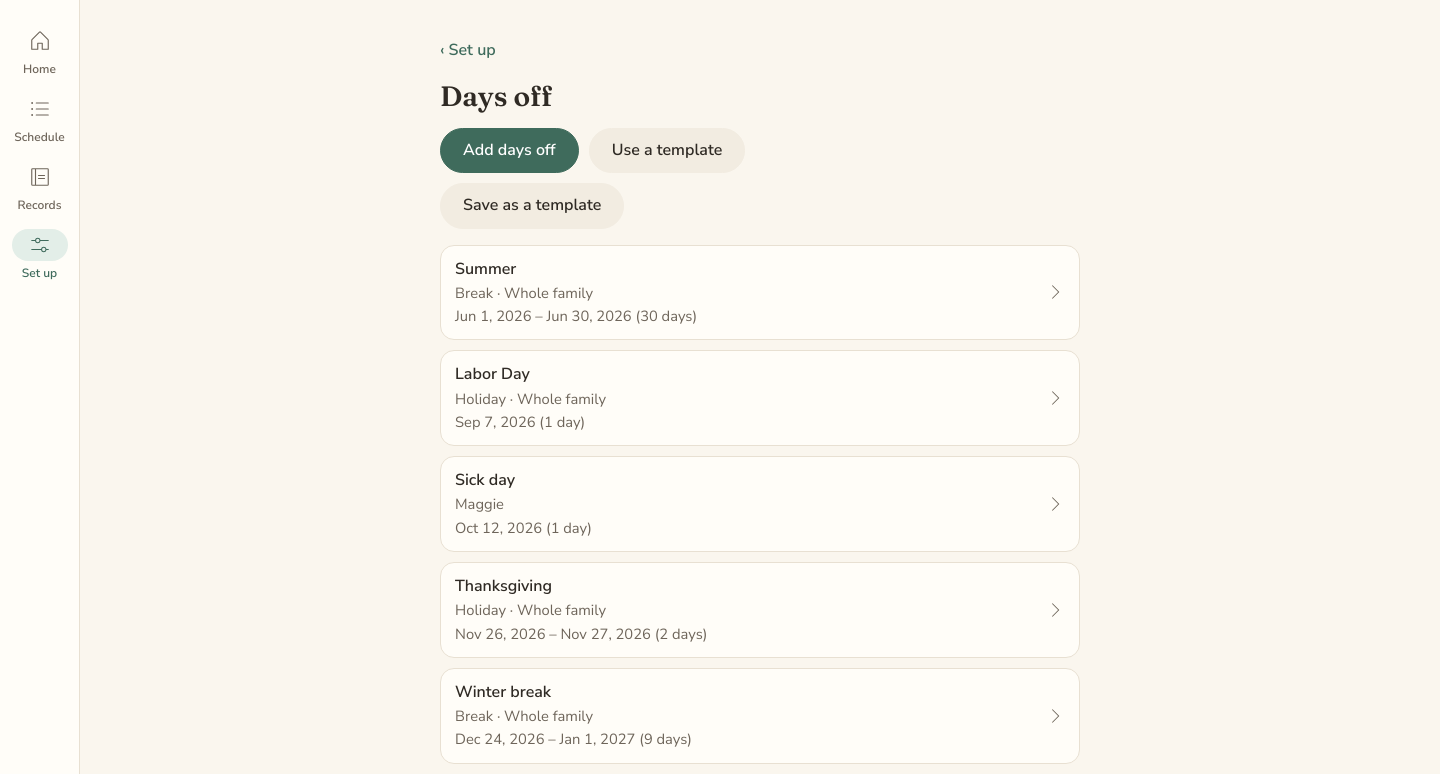
Test: Save as a template (S5-07) › a server error shows and the panel stays open
Check: the heading "Days off" is shown, box [440, 80, 552, 112]
Click the button "Save as a template" at (532, 206), box [440, 183, 624, 229]
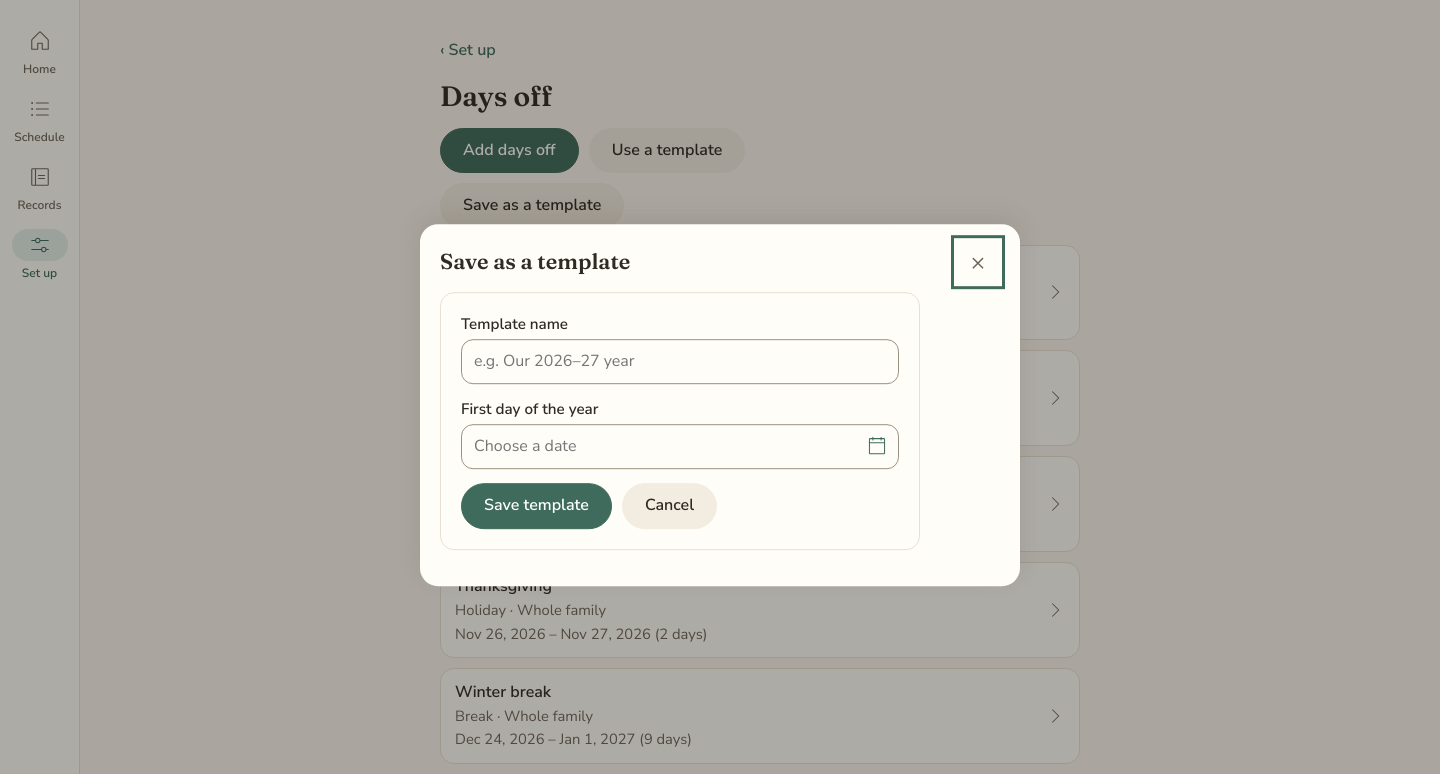
Type "Our year" into the field labelled "Template name" at (680, 362), box [461, 339, 899, 384]
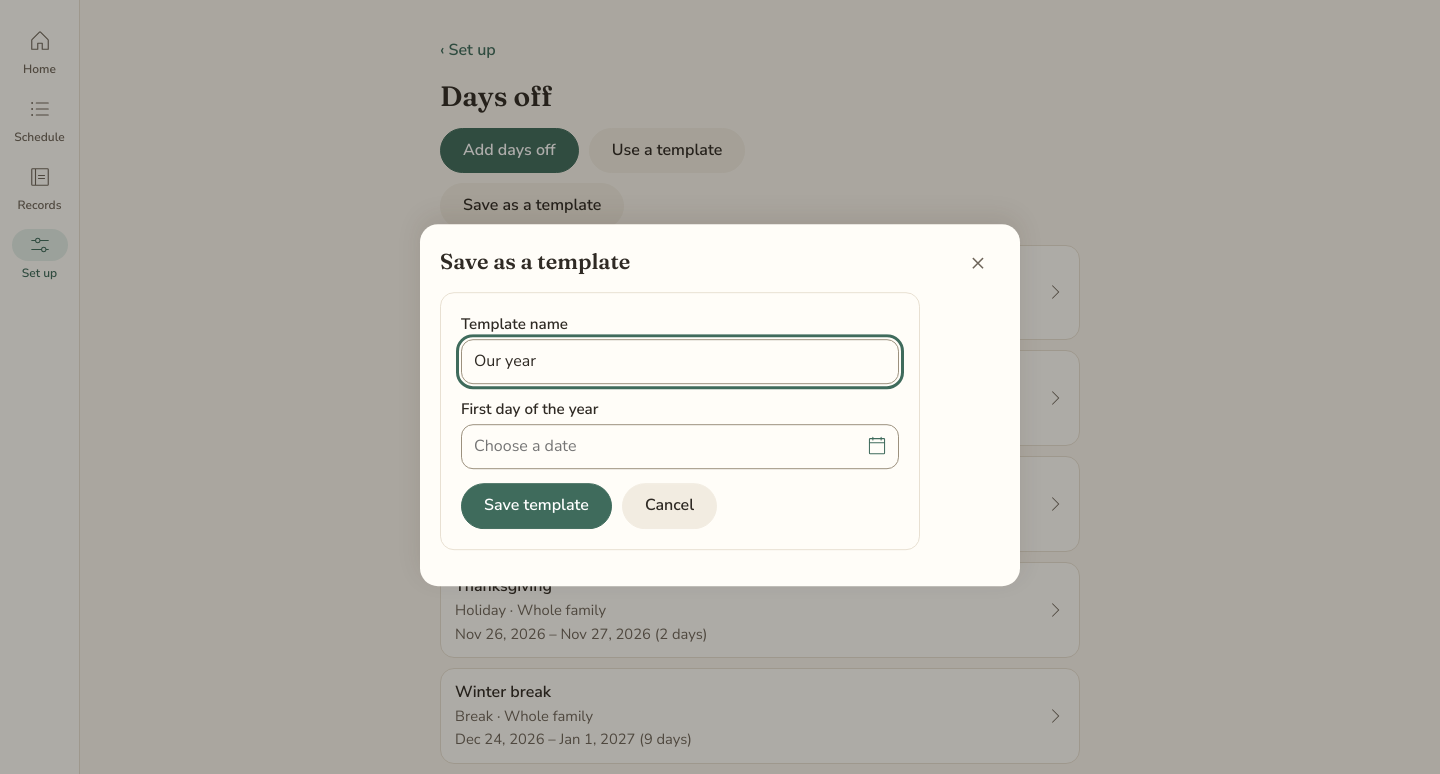
Type "2026-08-17" into the field labelled "First day of the year" at (680, 447), box [461, 424, 899, 470]
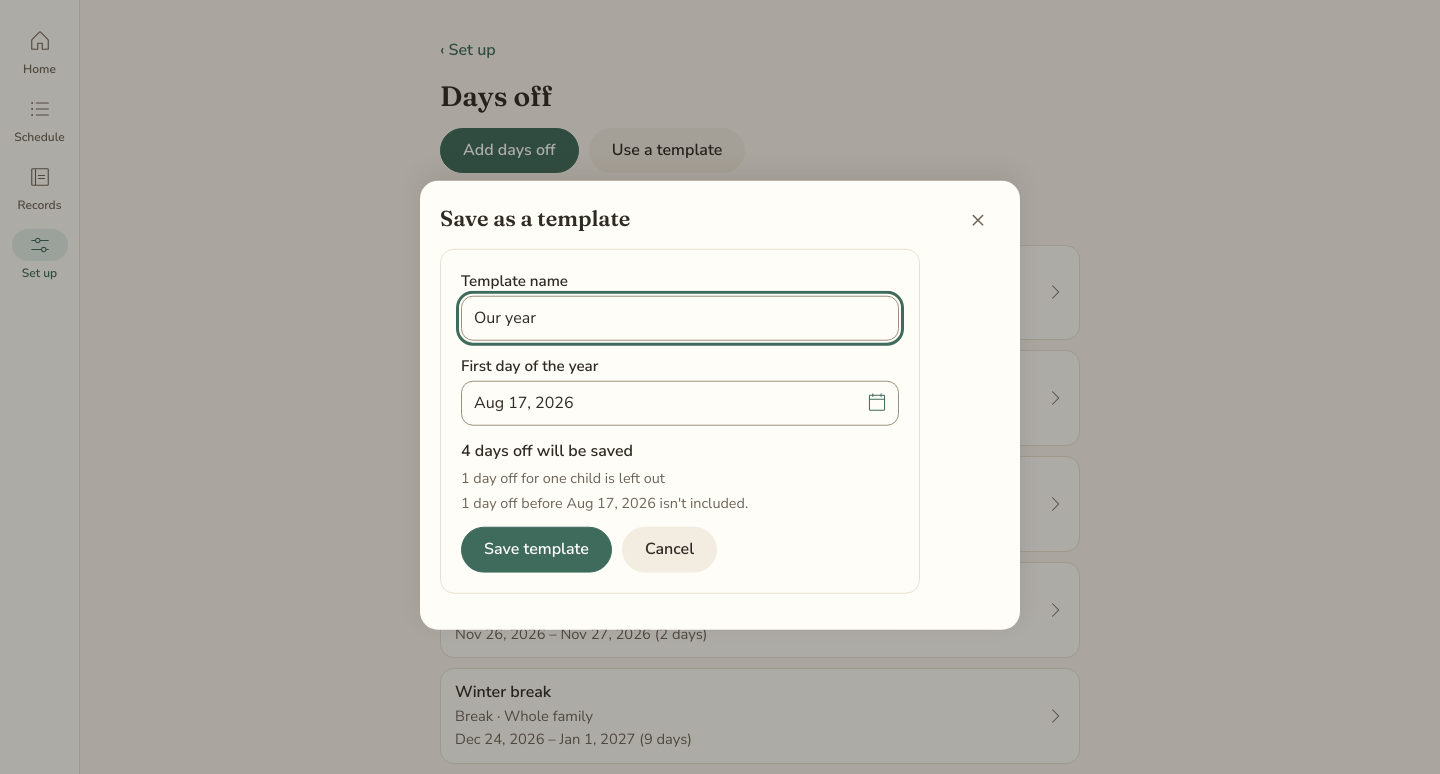
Click the button "Save template" at (536, 550), box [461, 527, 612, 572]
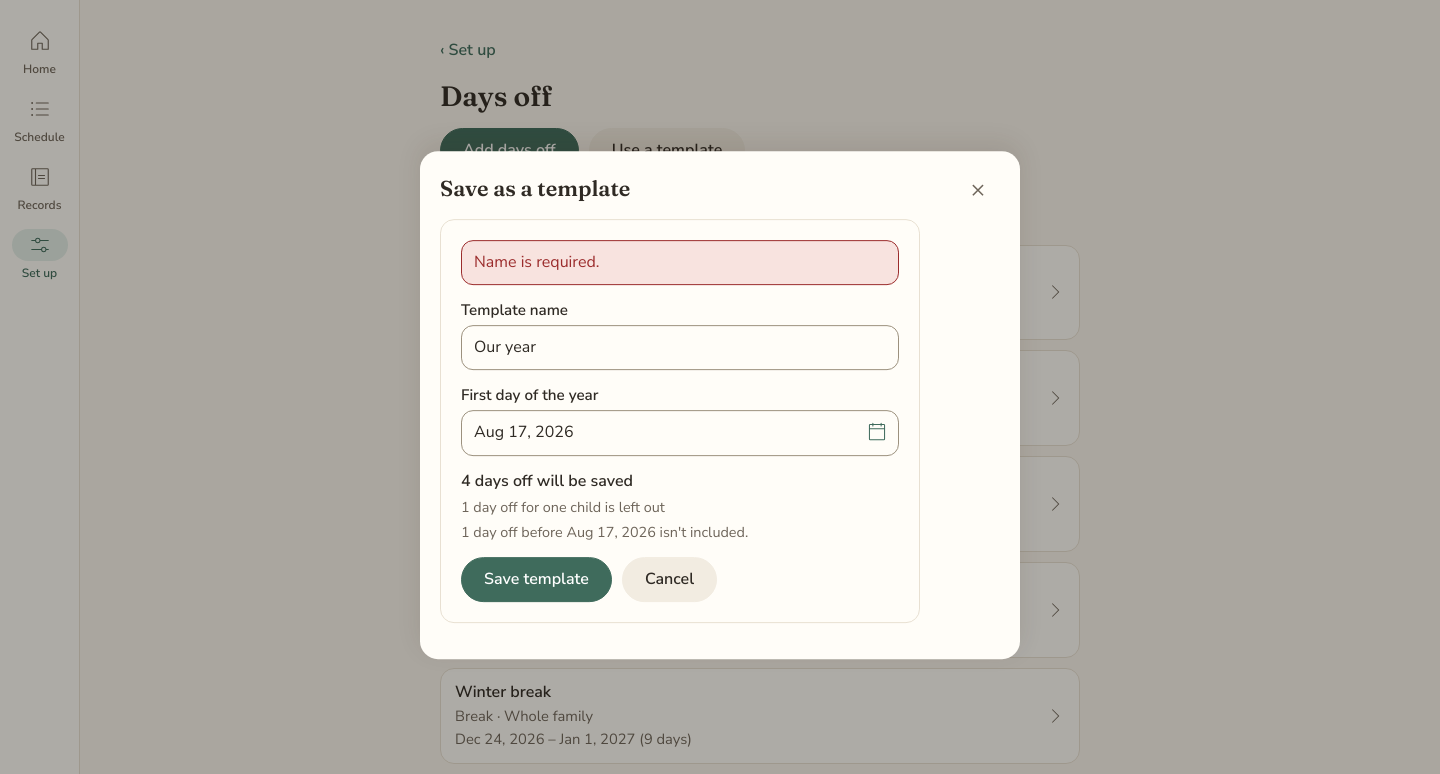
Check: the message reads "Name is required.", box [474, 251, 600, 273]
